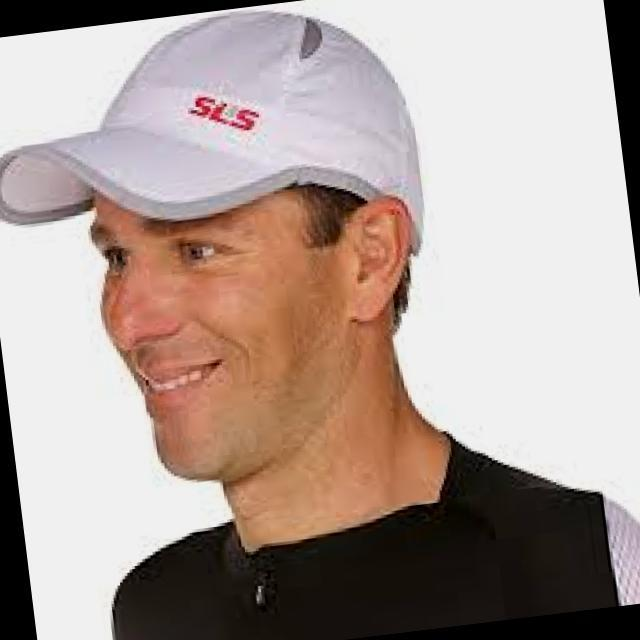cap: (0, 0, 461, 317)
